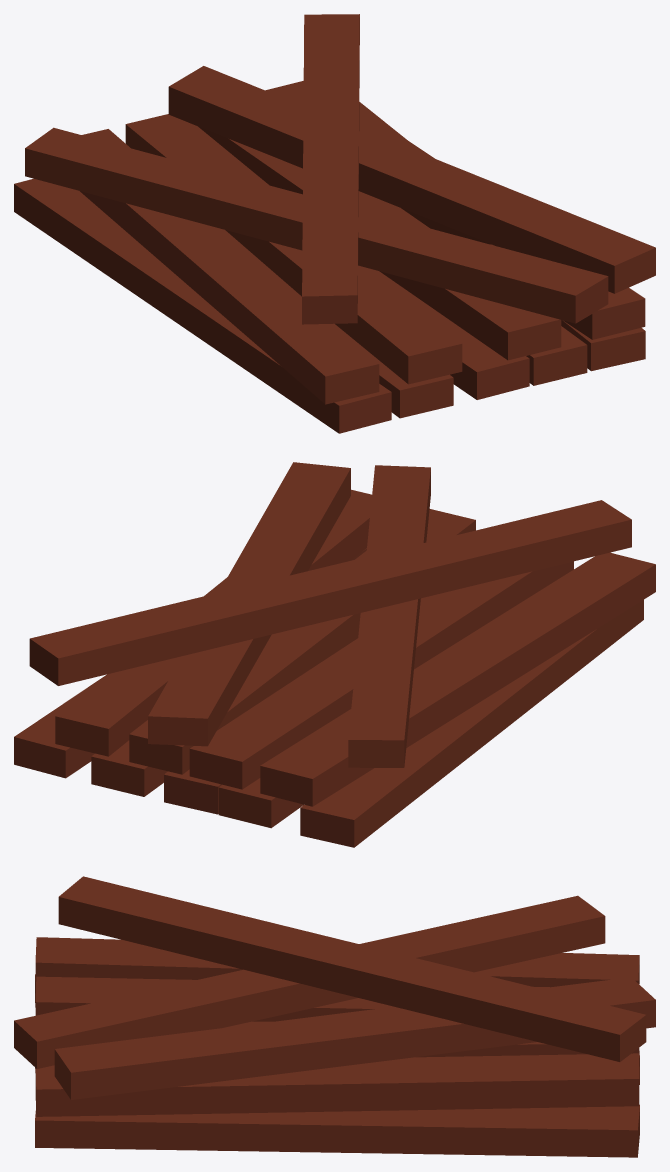
File: wood.fbx
3 views of the same model, one above another, from view 1: azimuth 30°, elevation 25°; view 2: azimuth 150°, elevation 25°; view 3: azimuth 270°, elevation 25° (orthographic). The views are drawn at different scales.
Parts seen in each view (by area): view 1: Cube; view 2: Cube; view 3: Cube.
Part boxes in pixels (<box>): Cube: <box>14,14,655,433</box>; Cube: <box>14,462,655,847</box>; Cube: <box>14,876,655,1157</box>.
Bounding box in the file's own units: 106 × 21.85 × 69.45.
